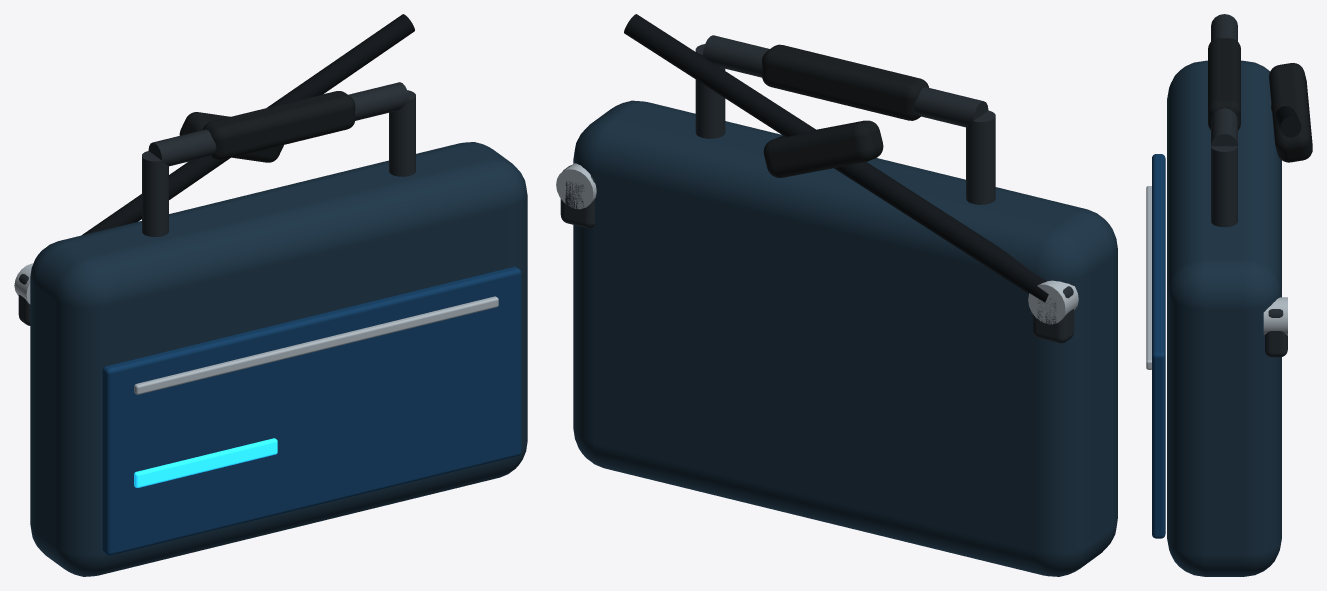
Rendered from laptop-bag.glb.
The picture shows the model from 3 angles, left to right: view 1: azimuth 30°, elevation 25°; view 2: azimuth 150°, elevation 25°; view 3: azimuth 270°, elevation 25°; orthographic projection. The views are drawn at different scales.
Parts seen in each view (by area): view 1: Padded laptop bag, Front organizer pocket, Premium laptop shoulder bag, Comfort handle, Front zipper, Brand detail, Shoulder pad; view 2: Padded laptop bag, Premium laptop shoulder bag, Comfort handle, Shoulder pad, Strap ring (×2); view 3: Padded laptop bag, Front organizer pocket, Premium laptop shoulder bag, Shoulder pad, Comfort handle, Front zipper, Strap ring.
Boxes of the visible parts, x1,y1,x2,y2 form: Padded laptop bag: (30, 142, 527, 576); Front organizer pocket: (102, 266, 521, 555); Premium laptop shoulder bag: (18, 14, 415, 325); Comfort handle: (202, 91, 355, 160); Front zipper: (134, 296, 498, 394); Brand detail: (134, 438, 277, 487); Shoulder pad: (179, 112, 283, 162); Padded laptop bag: (573, 100, 1117, 576); Premium laptop shoulder bag: (560, 14, 1073, 343); Comfort handle: (762, 44, 928, 120); Shoulder pad: (763, 120, 883, 177); Strap ring (×2): (556, 163, 1078, 324); Padded laptop bag: (1167, 60, 1281, 576); Front organizer pocket: (1152, 154, 1165, 538); Premium laptop shoulder bag: (1211, 14, 1301, 357); Shoulder pad: (1269, 63, 1312, 162); Comfort handle: (1208, 38, 1240, 130); Front zipper: (1146, 186, 1151, 369); Strap ring: (1263, 297, 1287, 335).
Size of the model in its own units: 1.78 by 1.6 by 0.5519.
